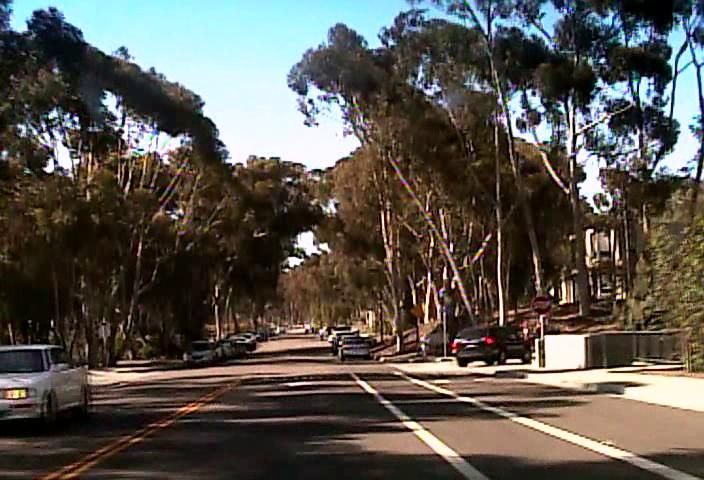stop: (531, 295, 552, 315)
